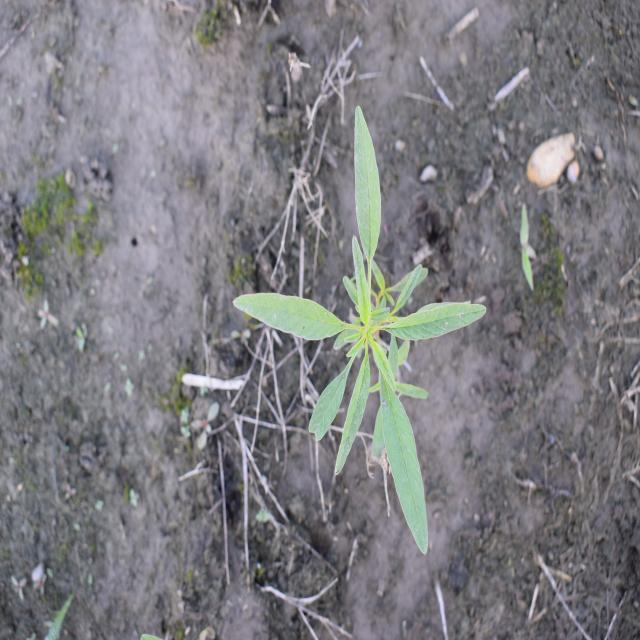Waterhemp: (230, 102, 488, 560)
